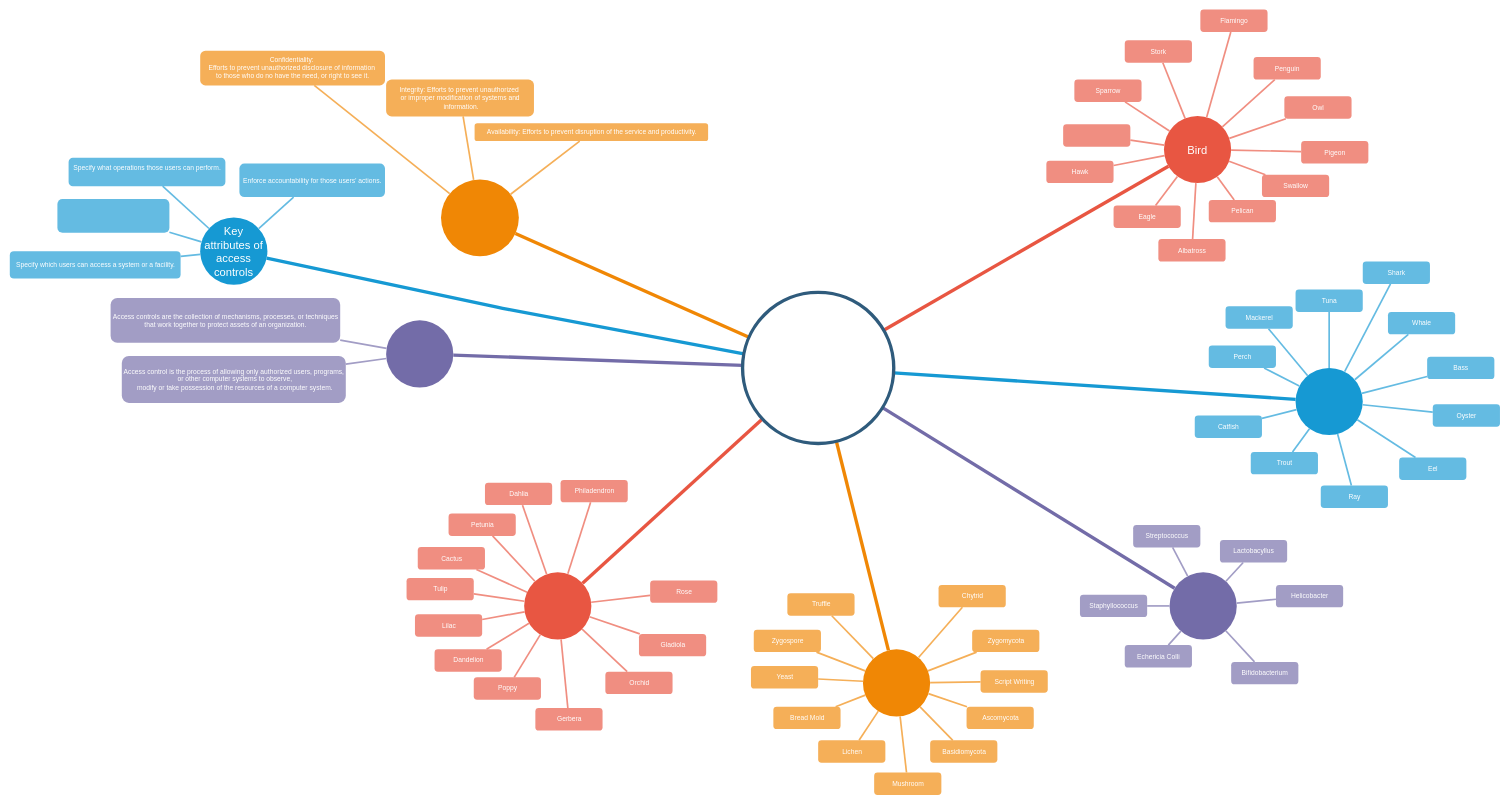
Some shapes in this 1509 by 805 pixel diagram are drawn without their labels. Each missing label, with the box of its shape:
Acces control: (741, 290, 895, 445)
Bacteria: (1169, 572, 1236, 639)
Definition: (386, 320, 453, 387)
Falcon: (1063, 124, 1130, 146)
Fish: (1295, 368, 1362, 435)
Flower: (524, 572, 591, 639)
Fungi: (863, 649, 930, 716)
Specify what resources those users can access.: (57, 199, 169, 232)
The CIA and the access control.: (441, 179, 519, 256)
